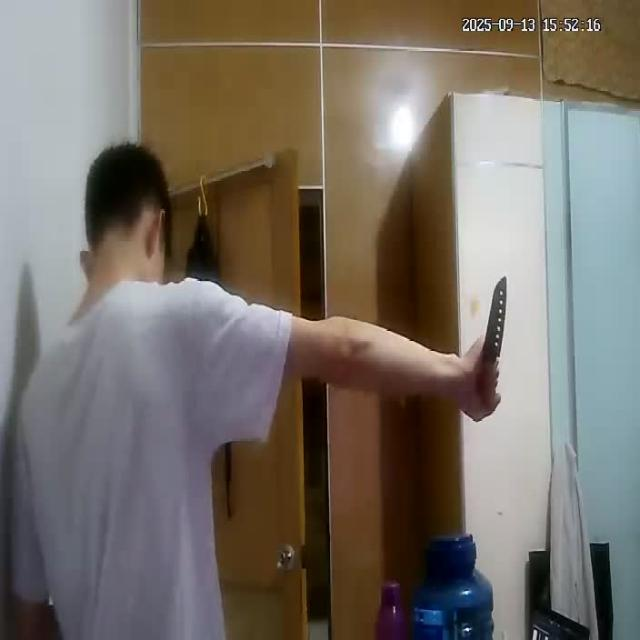senjata_tajam: (482, 274, 512, 359)
